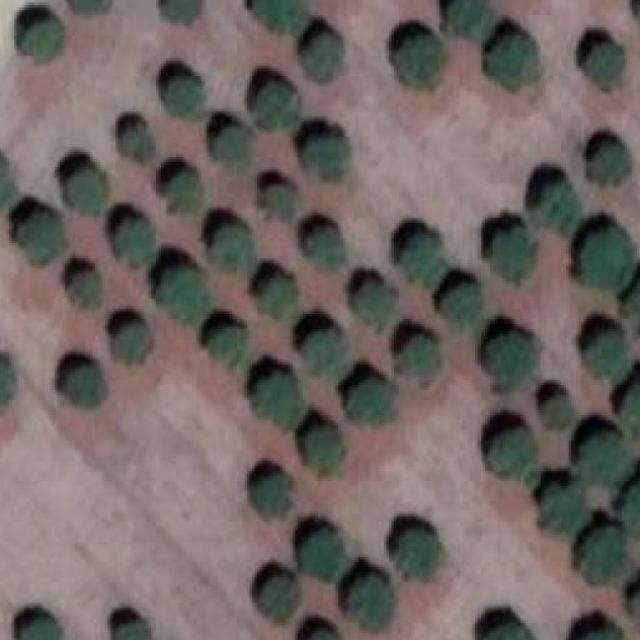Tree: (576, 228, 635, 294), (151, 263, 206, 327), (573, 434, 632, 489), (579, 522, 630, 580), (485, 34, 539, 87), (485, 332, 536, 386), (389, 33, 442, 84), (544, 484, 594, 538), (345, 572, 394, 626), (431, 284, 480, 337), (65, 165, 113, 219), (204, 226, 252, 279), (110, 218, 156, 271), (255, 373, 301, 426), (487, 427, 536, 476), (396, 334, 445, 383), (252, 84, 303, 130), (399, 233, 445, 283), (531, 182, 581, 228), (17, 208, 63, 256), (204, 327, 252, 373), (348, 378, 397, 423), (298, 30, 343, 79), (301, 527, 344, 577), (301, 327, 346, 373), (495, 226, 536, 276), (156, 170, 201, 214), (108, 317, 152, 362), (159, 74, 205, 117), (298, 423, 341, 469), (60, 365, 105, 408), (392, 530, 435, 575), (301, 137, 351, 175), (581, 327, 622, 373), (215, 127, 255, 172), (586, 142, 630, 182), (19, 20, 63, 59), (257, 273, 298, 314), (260, 180, 301, 221), (260, 572, 296, 618), (353, 282, 389, 327), (439, 0, 488, 33), (252, 474, 291, 514), (118, 124, 159, 162), (613, 377, 640, 433), (257, 0, 307, 30), (303, 228, 341, 266), (589, 44, 625, 84), (159, 0, 204, 30), (65, 268, 100, 304), (541, 392, 574, 430), (622, 476, 640, 530), (622, 274, 640, 327), (483, 623, 539, 640), (19, 617, 59, 640), (107, 619, 150, 640), (574, 625, 628, 640), (0, 355, 14, 408), (70, 0, 112, 16), (306, 626, 343, 640)
